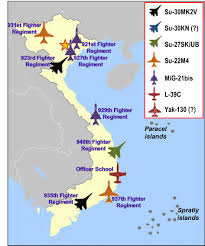Island: (137, 196, 200, 235), (139, 118, 179, 144)
